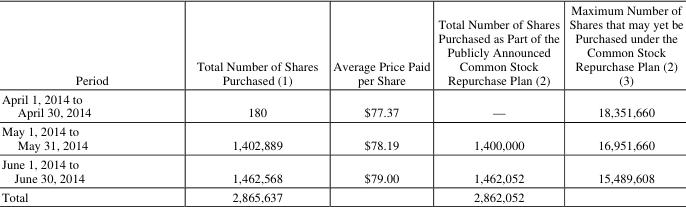table: (0, 0, 682, 204)
table column: (151, 0, 324, 204), (0, 0, 151, 204), (433, 0, 563, 204), (563, 0, 682, 204), (324, 0, 433, 204)
table column header: (0, 0, 682, 88)
table row: (0, 0, 682, 88), (0, 120, 682, 153), (0, 153, 682, 186), (0, 88, 682, 120), (0, 186, 682, 204)
